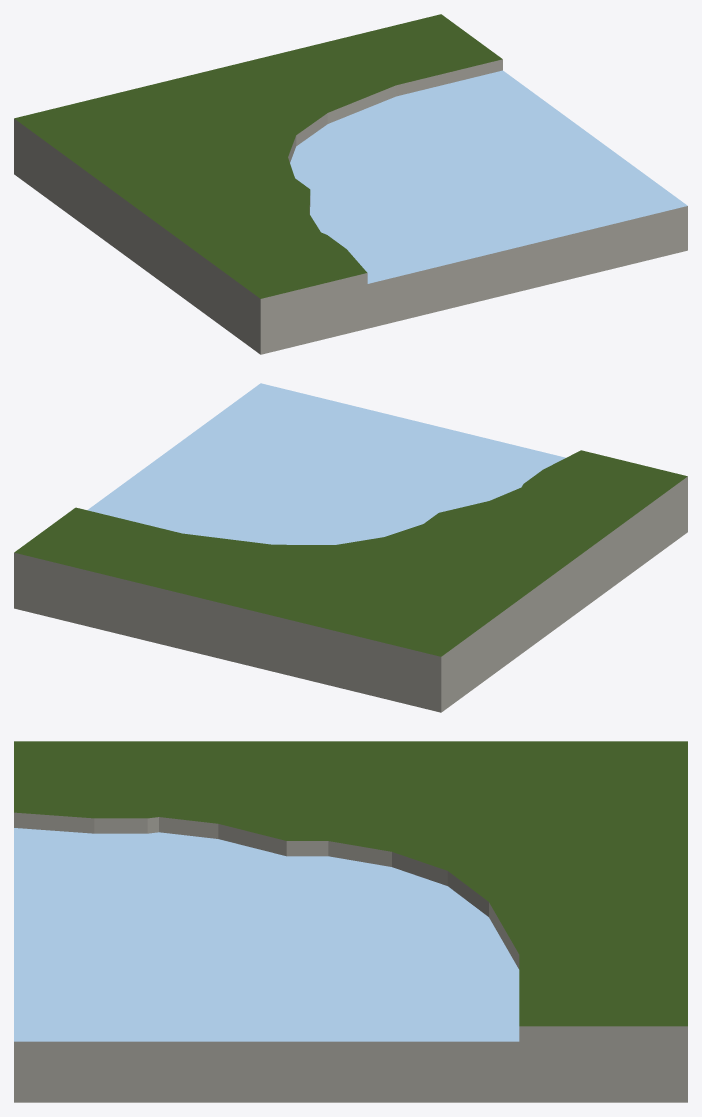
The model's file is Terrain_Tile_Grass_Rock_Water_Bank_Corner_03.fbx.
3 renders of one model, top to bottom at view 1: azimuth 30°, elevation 25°; view 2: azimuth 150°, elevation 25°; view 3: azimuth 270°, elevation 25°, orthographic. The views are drawn at different scales.
Visible parts, largest first — view 1: Terrain_Tile_Grass_Rock_Water_Bank_Corner_03; view 2: Terrain_Tile_Grass_Rock_Water_Bank_Corner_03; view 3: Terrain_Tile_Grass_Rock_Water_Bank_Corner_03.
Part boxes in pixels (left/top/right/bottom): Terrain_Tile_Grass_Rock_Water_Bank_Corner_03: left=14, top=14, right=687, bottom=354; Terrain_Tile_Grass_Rock_Water_Bank_Corner_03: left=14, top=383, right=687, bottom=712; Terrain_Tile_Grass_Rock_Water_Bank_Corner_03: left=14, top=741, right=687, bottom=1102.
Bounding box in the file's own units: 126 × 15.75 × 126.
